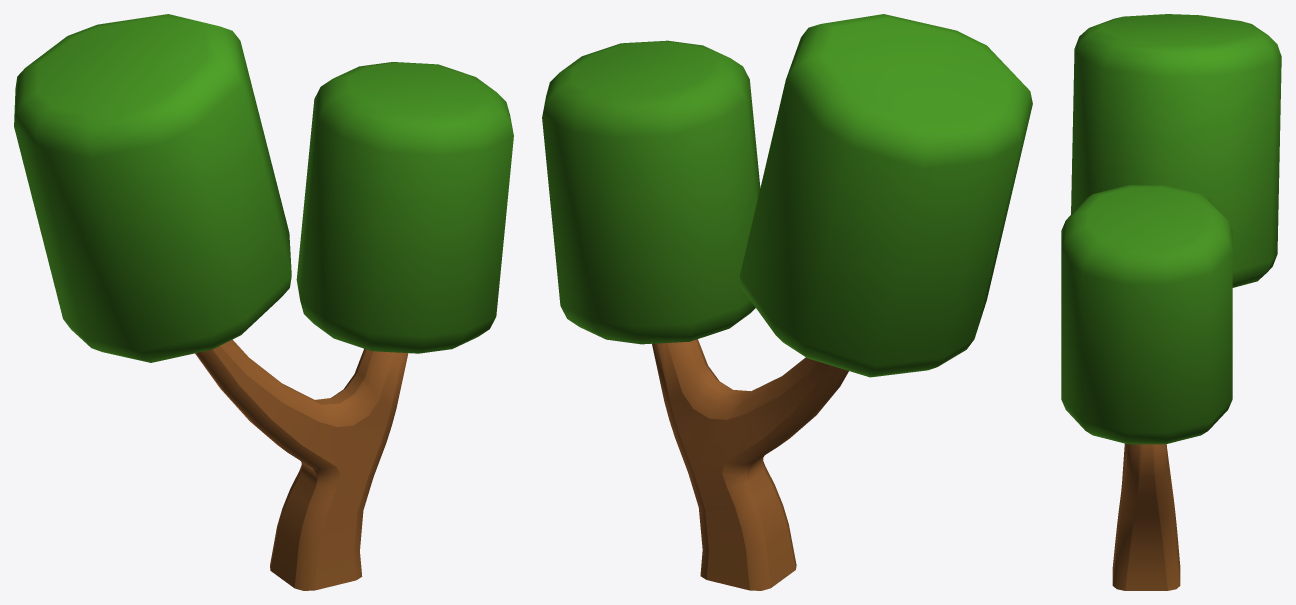
Rendered from Tree_1_1.glb.
3 views of the same model, side by side, from view 1: azimuth 30°, elevation 25°; view 2: azimuth 150°, elevation 25°; view 3: azimuth 270°, elevation 25° (orthographic). The views are drawn at different scales.
Parts seen in each view (by area): view 1: Tree_1_1; view 2: Tree_1_1; view 3: Tree_1_1.
Part boxes in pixels (bbox=[...]): Tree_1_1: bbox=[14, 14, 513, 590]; Tree_1_1: bbox=[542, 14, 1032, 590]; Tree_1_1: bbox=[1061, 14, 1281, 590].
Size of the model in its own units: 2.97 by 3.49 by 1.43.
Materials: 2 (2 with a texture image).
